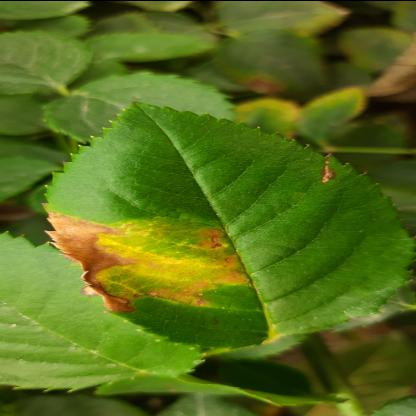powdery-mildew: (42, 100, 415, 347)
